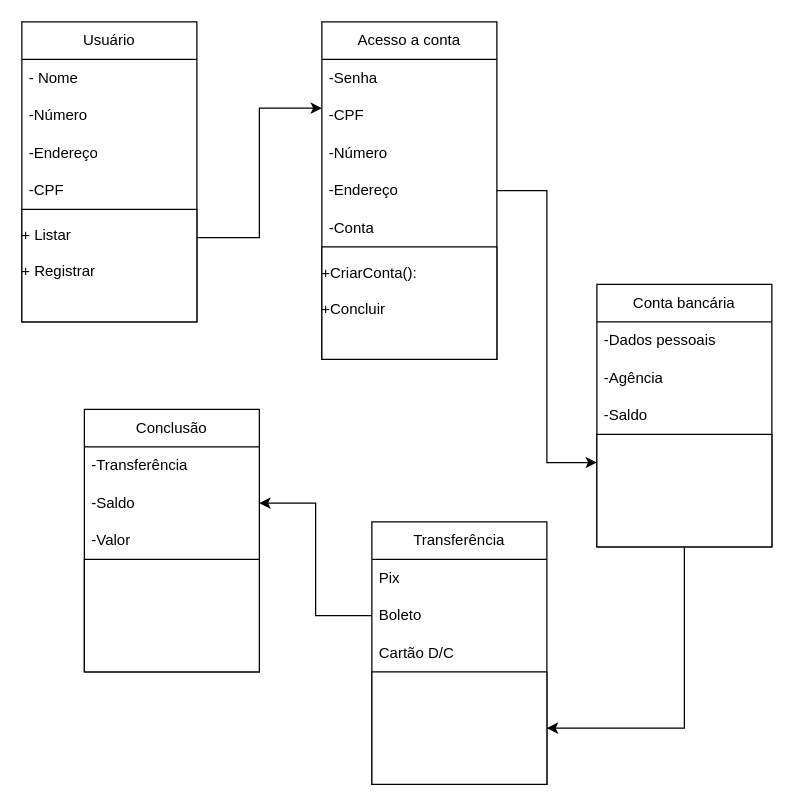
This 794x806 diagram has some shape labels left out. Each missing label, with the centre of its shape:
"+Comprovante +Sair" belongs at [171,615].
"+Envio + Concluir():" belongs at [459,727].
"+Transferência +SairConta():" belongs at [684,490].
